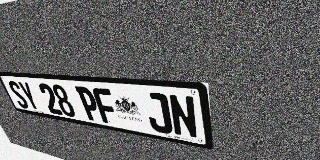2: (37, 83, 63, 115)
8: (50, 84, 77, 118)
F: (91, 87, 120, 125)
J: (143, 92, 174, 135)
N: (167, 94, 199, 139)
P: (75, 86, 103, 122)
S: (6, 80, 31, 109)
Y: (17, 81, 42, 111)
